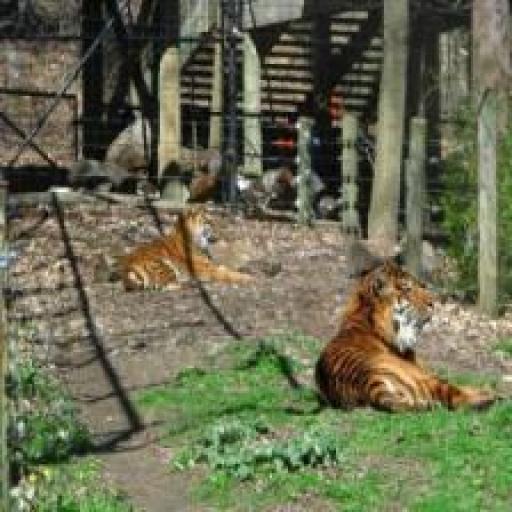Tiger: (314, 264, 506, 416), (108, 204, 246, 294)
